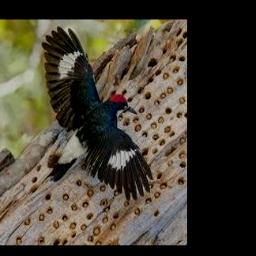Woodpecker: (42, 26, 153, 200)
